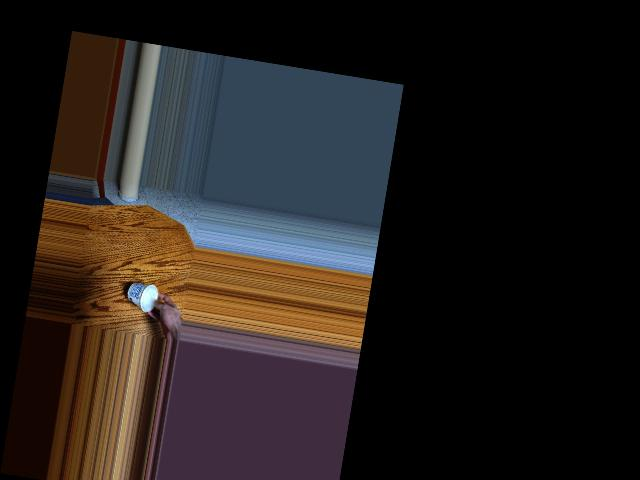cotage: (124, 277, 158, 312)
